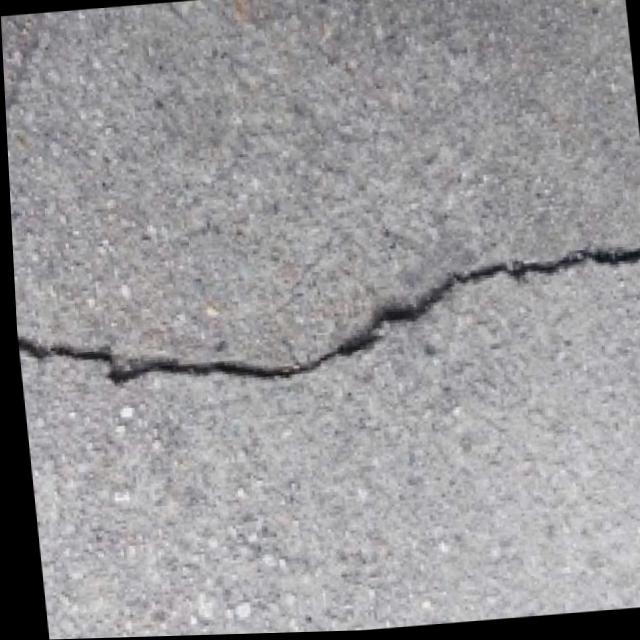Crack: (9, 200, 640, 434)
